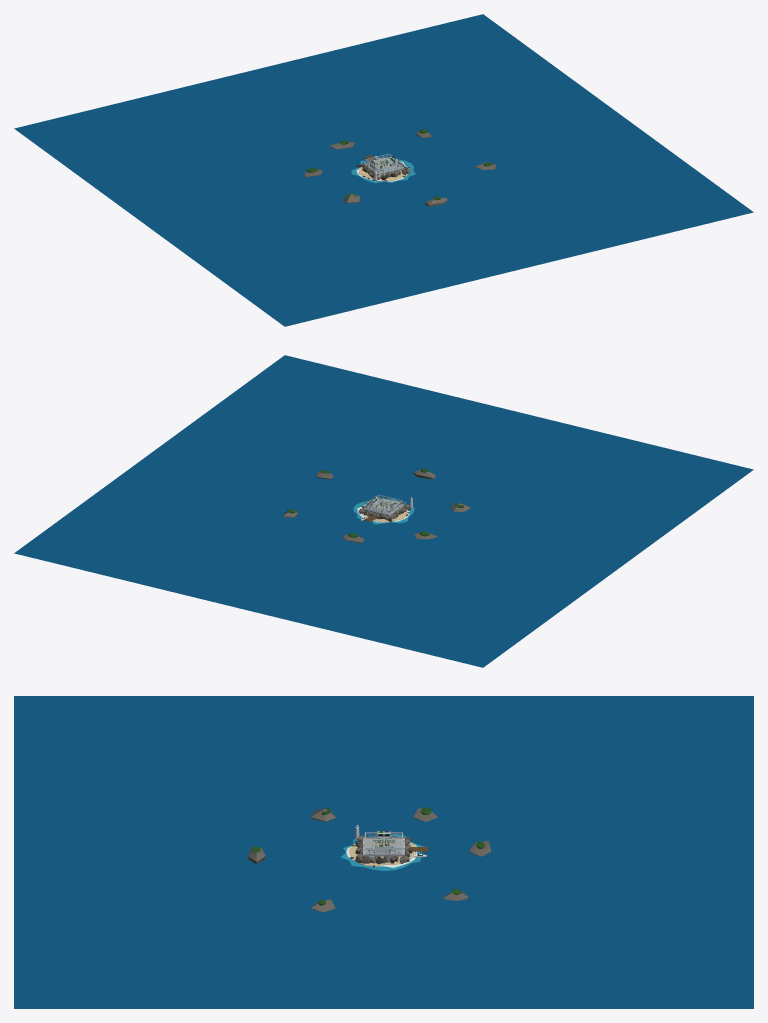
Rendered from arena_coastal.glb.
3 renders of one model, top to bottom at view 1: azimuth 30°, elevation 25°; view 2: azimuth 150°, elevation 25°; view 3: azimuth 270°, elevation 25°, orthographic. The views are drawn at different scales.
Visible parts, largest first — view 1: Backdrop_Island; view 2: Backdrop_Island; view 3: Backdrop_Island.
Boxes of the visible parts, box(x1,y1,x2,y2) form: Backdrop_Island: box(14, 14, 753, 326); Backdrop_Island: box(14, 355, 753, 667); Backdrop_Island: box(14, 696, 753, 1008).
Bounding box in the file's own units: 1000 × 48.52 × 1000.
